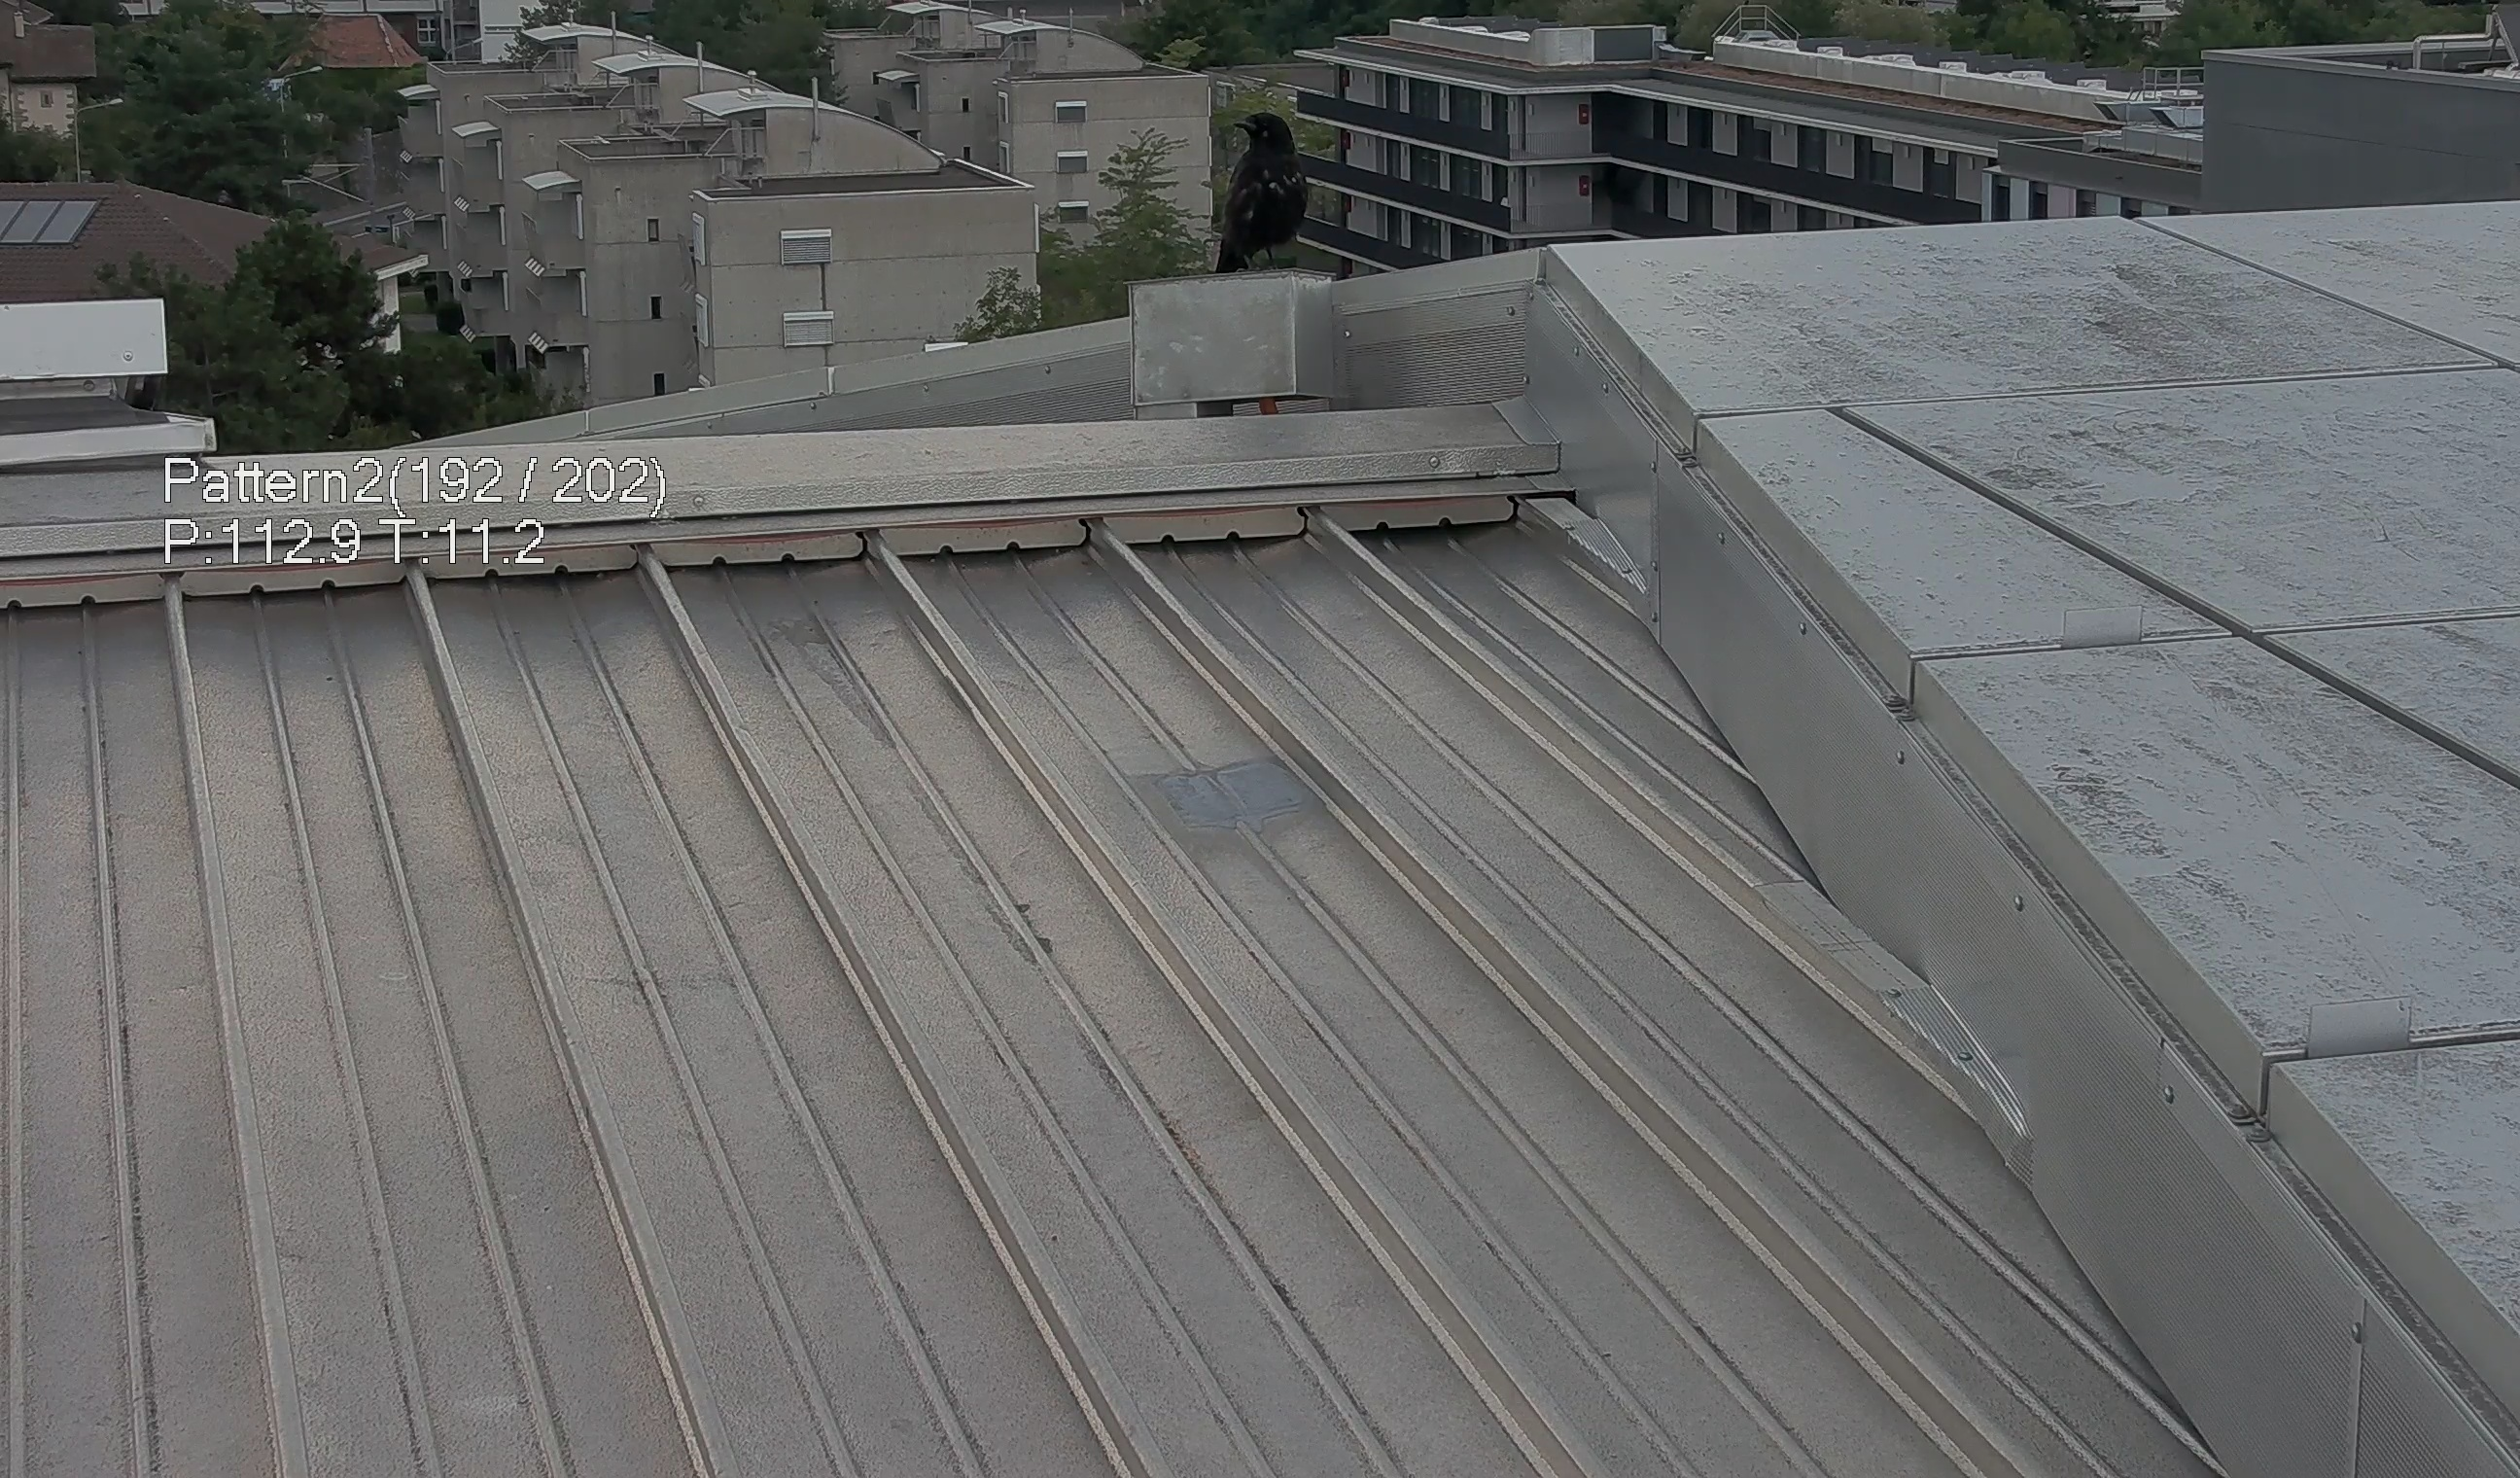Pigeon: (1210, 106, 1317, 280)
